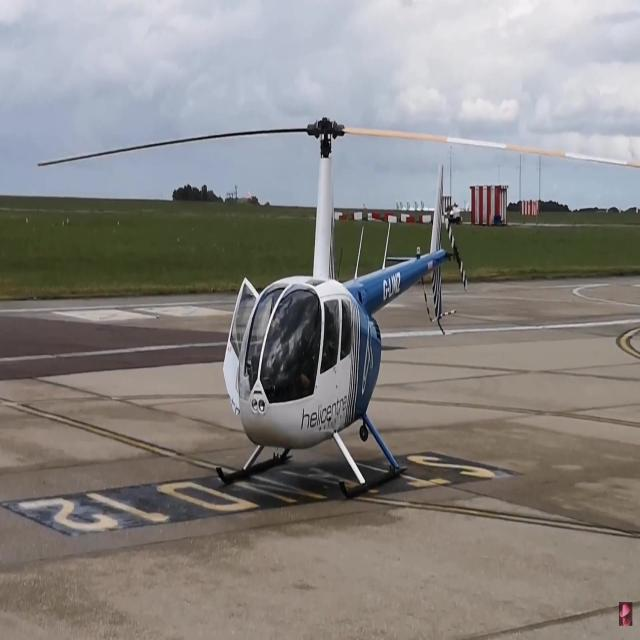CIV_HELO: (214, 115, 453, 500)
